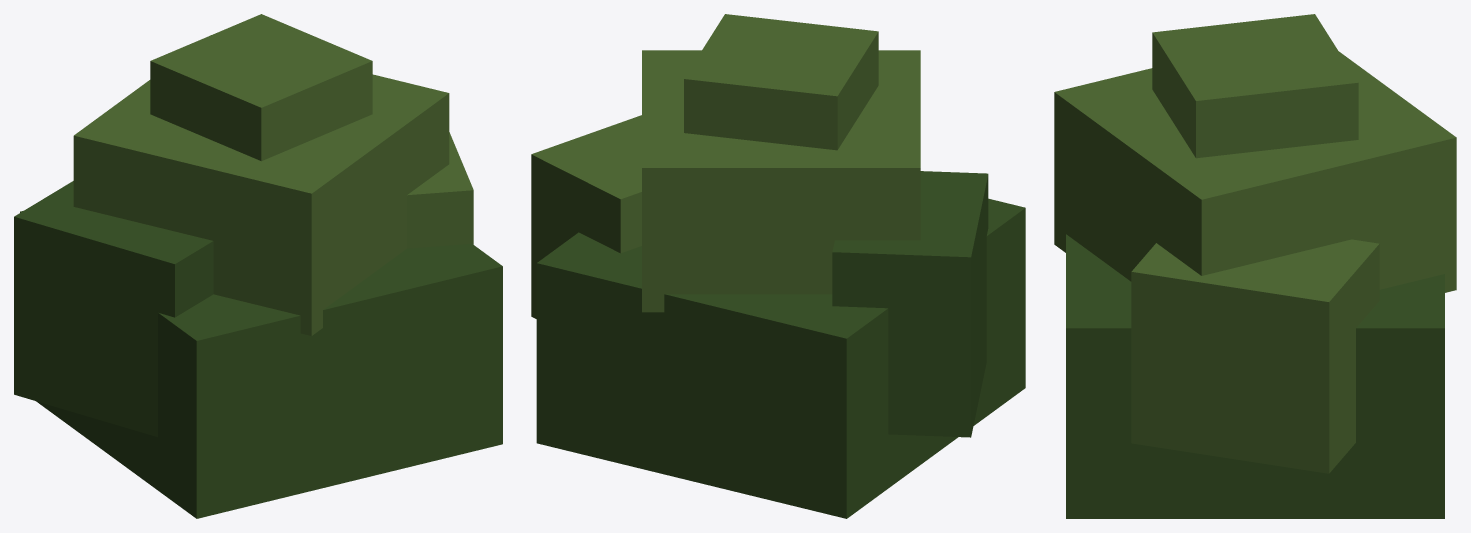
Rendered from bush.gltf.
3 renders of one model, left to right at view 1: azimuth 30°, elevation 25°; view 2: azimuth 150°, elevation 25°; view 3: azimuth 270°, elevation 25°, orthographic. The views are drawn at different scales.
Visible parts, largest first — view 1: mass_low, mass_top, lump_l, crown, lump_r; view 2: mass_low, mass_top, lump_l, crown, lump_r; view 3: mass_top, mass_low, lump_r, crown.
Boxes of the visible parts, x1=… form: mass_low: x1=20, y1=211, x2=502, y2=518; mass_top: x1=73, y1=74, x2=449, y2=335; lump_l: x1=14, y1=181, x2=213, y2=436; crown: x1=150, y1=14, x2=372, y2=161; lump_r: x1=407, y1=132, x2=473, y2=248; mass_low: x1=536, y1=198, x2=1025, y2=518; mass_top: x1=642, y1=50, x2=920, y2=312; lump_l: x1=832, y1=171, x2=988, y2=437; crown: x1=684, y1=14, x2=878, y2=150; lump_r: x1=531, y1=115, x2=641, y2=318; mass_top: x1=1054, y1=51, x2=1456, y2=292; mass_low: x1=1066, y1=234, x2=1444, y2=518; lump_r: x1=1131, y1=239, x2=1379, y2=473; crown: x1=1152, y1=14, x2=1358, y2=158.
Size of the model in its own units: 0.7901 by 0.625 by 0.5976.
2 materials, 2 textured.
